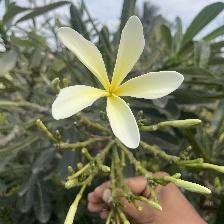champaka: (51, 16, 187, 153)
